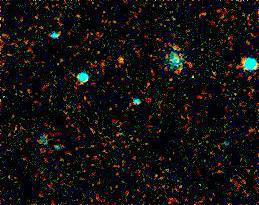star: (107, 46, 137, 76)
